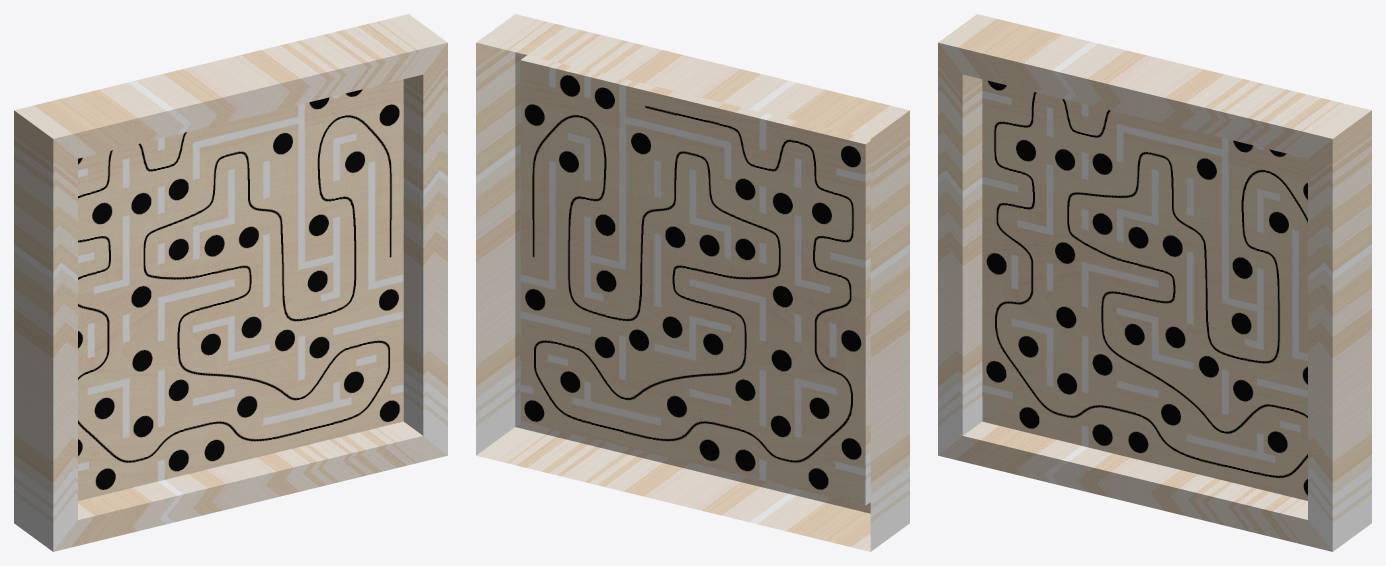
File: board.obj
The picture shows the model from 3 angles, left to right: view 1: azimuth 30°, elevation 25°; view 2: azimuth 150°, elevation 25°; view 3: azimuth 330°, elevation 25°; orthographic projection.
Parts seen in each view (by area): view 1: Cube; view 2: Cube; view 3: Cube.
Part boxes in pixels (x1,y1,x2,y2): Cube: (14,14,447,551); Cube: (476,14,909,551); Cube: (938,14,1371,551).
Size of the model in its own units: 11.71 by 11.71 by 2.01.
1 material, 1 textured.
